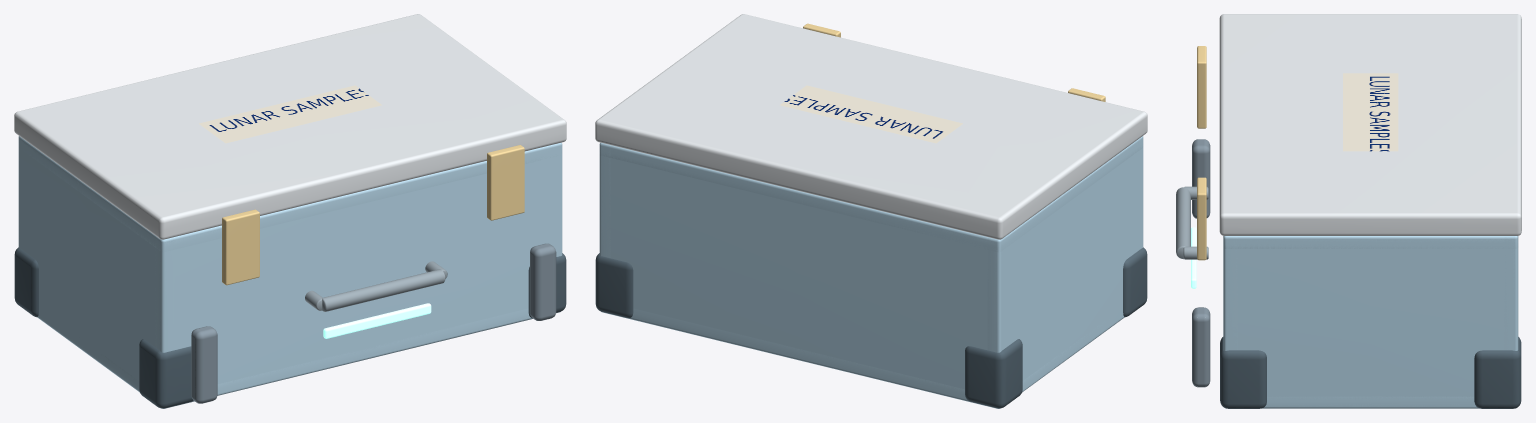
Rendered from sample_case.glb.
The picture shows the model from 3 angles, left to right: view 1: azimuth 30°, elevation 25°; view 2: azimuth 150°, elevation 25°; view 3: azimuth 270°, elevation 25°; orthographic projection.
Parts seen in each view (by area): view 1: Samples_Lid_Panel, Samples_Front, Samples_Left, Samples_Top, Samples_Bottom, Samples_Tag, Samples_Corner-0.29440.17200000000000001, Samples_LatchTab-0.21120000000000003, Samples_LatchTab0.21120000000000003, Case_Impact_Corner, Case_Impact_Corner_2, Samples_Carry_Grip (+3 smaller); view 2: Samples_Lid_Panel, Samples_Rear, Samples_Left, Samples_Top, Samples_Bottom, Samples_Tag, Samples_Corner-0.2944-0.17200000000000001, Samples_Corner0.2944-0.17200000000000001, Samples_Corner-0.29440.17200000000000001, Samples_Right; view 3: Samples_Lid_Panel, Samples_Right, Samples_Tag, Samples_Top, Samples_Corner0.2944-0.17200000000000001, Samples_Corner0.29440.17200000000000001, Samples_Bottom, Case_Impact_Corner_2, Case_Impact_Corner, Samples_Carry_Grip, Samples_LatchTab0.21120000000000003, Samples_Rear (+2 smaller).
Part boxes in pixels (bbox=[...]): Samples_Lid_Panel: bbox=[14, 14, 566, 239]; Samples_Front: bbox=[155, 146, 560, 393]; Samples_Left: bbox=[18, 138, 174, 408]; Samples_Top: bbox=[18, 136, 562, 252]; Samples_Bottom: bbox=[37, 308, 560, 408]; Samples_Tag: bbox=[199, 85, 381, 143]; Samples_Corner-0.29440.17200000000000001: bbox=[139, 339, 193, 408]; Samples_LatchTab-0.21120000000000003: bbox=[222, 209, 259, 285]; Samples_LatchTab0.21120000000000003: bbox=[487, 145, 524, 220]; Case_Impact_Corner: bbox=[191, 326, 217, 403]; Case_Impact_Corner_2: bbox=[530, 243, 556, 320]; Samples_Carry_Grip: bbox=[322, 269, 445, 311]; Samples_Lid_Panel: bbox=[595, 14, 1147, 239]; Samples_Rear: bbox=[601, 146, 1006, 397]; Samples_Left: bbox=[987, 139, 1143, 408]; Samples_Top: bbox=[599, 136, 1143, 252]; Samples_Bottom: bbox=[601, 308, 1124, 408]; Samples_Tag: bbox=[780, 85, 962, 143]; Samples_Corner-0.2944-0.17200000000000001: bbox=[965, 339, 1022, 408]; Samples_Corner0.2944-0.17200000000000001: bbox=[595, 253, 633, 318]; Samples_Corner-0.29440.17200000000000001: bbox=[1123, 247, 1147, 317]; Samples_Right: bbox=[599, 143, 610, 258]; Samples_Lid_Panel: bbox=[1219, 14, 1521, 235]; Samples_Right: bbox=[1223, 236, 1518, 406]; Samples_Tag: bbox=[1343, 73, 1398, 151]; Samples_Top: bbox=[1223, 236, 1518, 248]; Samples_Corner0.2944-0.17200000000000001: bbox=[1474, 337, 1521, 408]; Samples_Corner0.29440.17200000000000001: bbox=[1220, 337, 1266, 408]; Samples_Bottom: bbox=[1225, 396, 1479, 408]; Case_Impact_Corner_2: bbox=[1192, 307, 1210, 387]; Case_Impact_Corner: bbox=[1192, 139, 1210, 218]; Samples_Carry_Grip: bbox=[1176, 187, 1190, 259]; Samples_LatchTab0.21120000000000003: bbox=[1197, 177, 1206, 260]; Samples_Rear: bbox=[1504, 236, 1514, 350].
Bounding box in the file's own units: 0.6538 × 0.296 × 0.469.
Materials: 9 (1 with a texture image).
